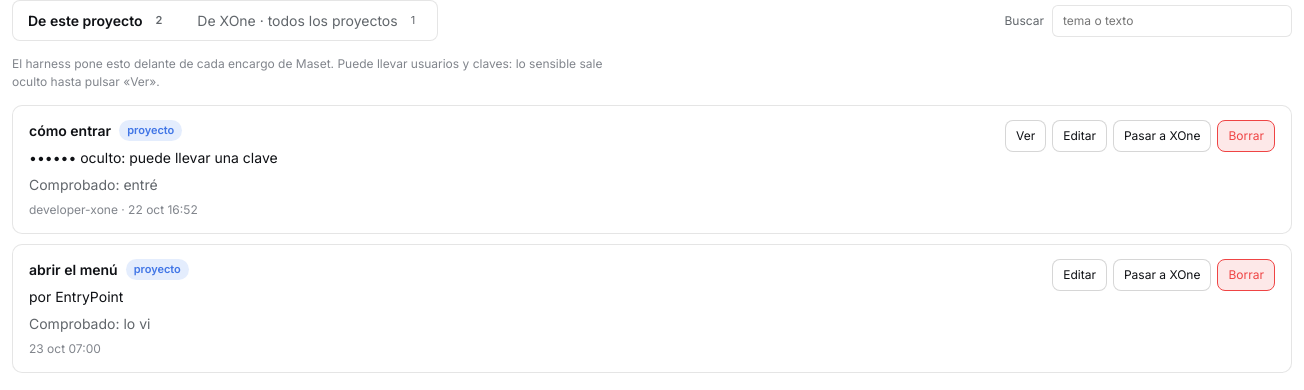
it: la pestaña «Lo aprendido» › lo sensible sale OCULTO y solo se pide con «Ver»; «Ocultar» lo vuelve a tapar
Expected: the heading "cómo entrar" is shown, [29,120,111,141]
Expected: the text "08006" is not shown
What coordinates should you click on to do the following:
click the button "Ver"
I would click on:
 (1026, 136)
Its box is [1005,120,1046,152].
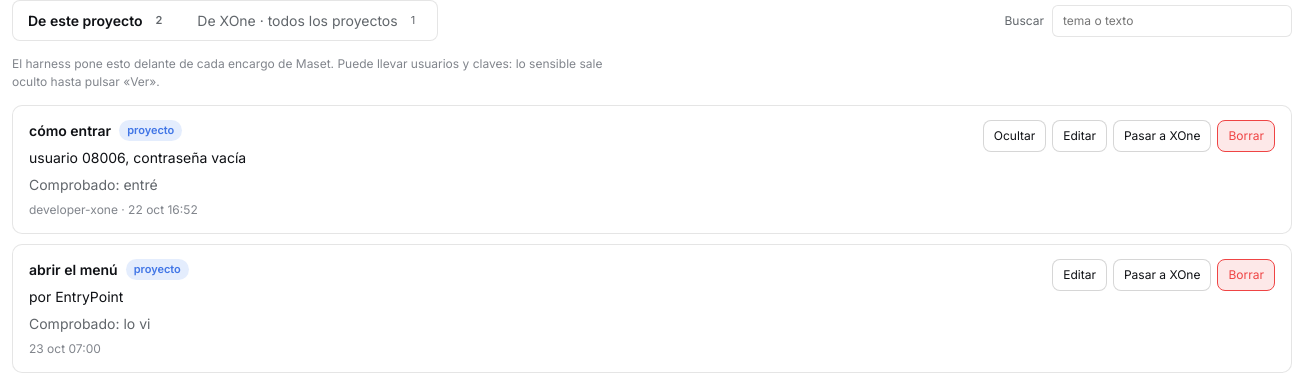
Now the text "usuario 08006, contraseña vacía" is shown, box [29,149,246,166]
What coordinates should you click on to do the following:
click the button "Ocultar"
I would click on:
 (1015, 136)
Its box is [983,120,1046,152].
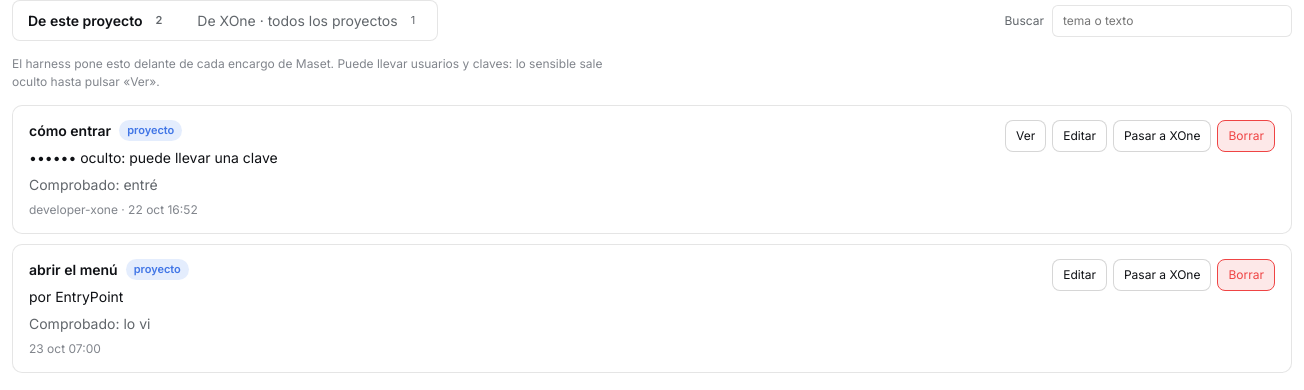
Now the text "08006" is gone
